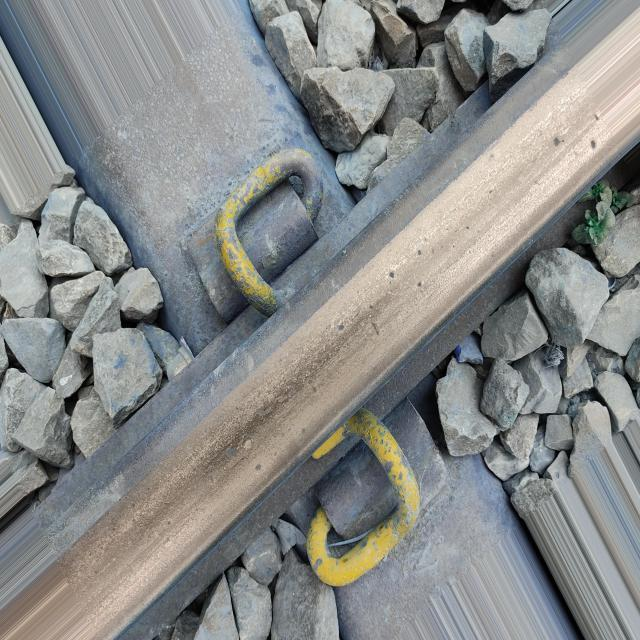Good Fasteners: (310, 400, 445, 586), (185, 149, 324, 321)
